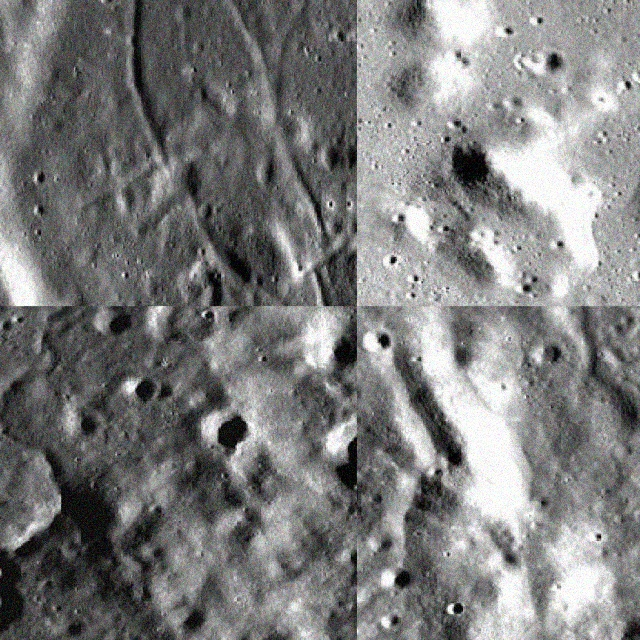crater: (0, 306, 228, 639), (125, 0, 280, 305), (357, 334, 460, 638), (548, 0, 638, 205)
